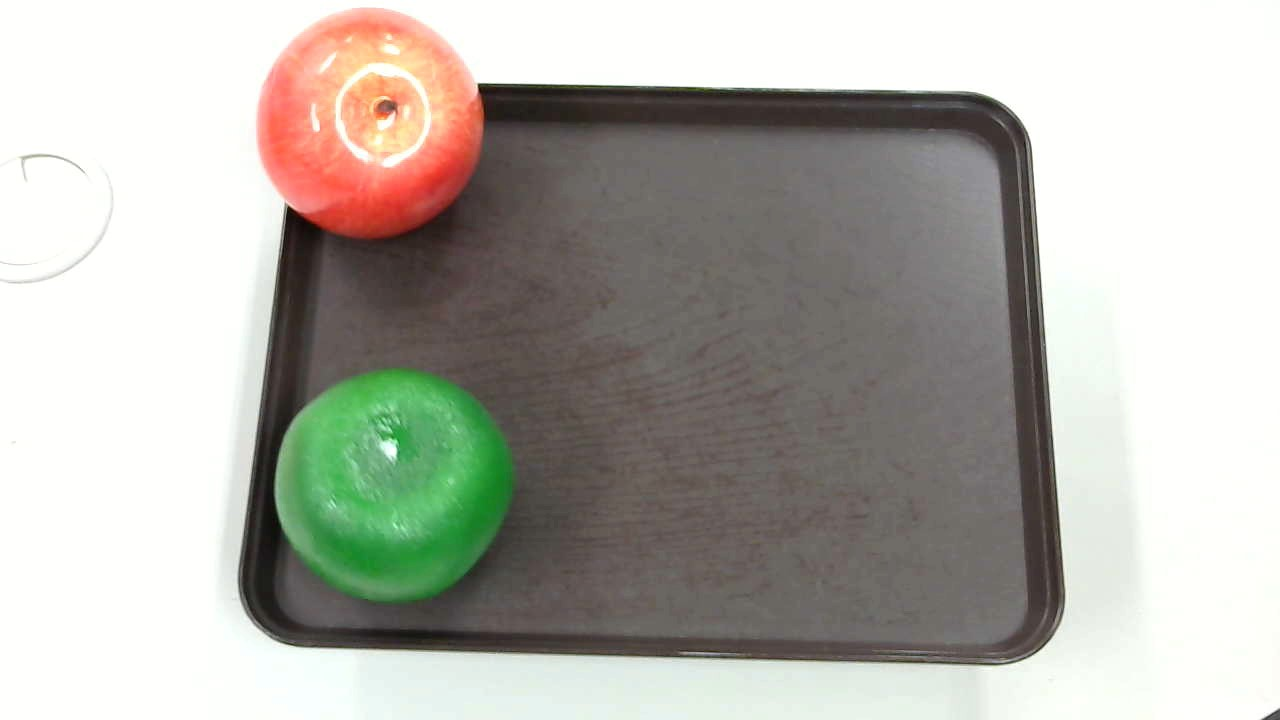green orange: (266, 362, 523, 607)
red apple: (257, 8, 483, 239)
